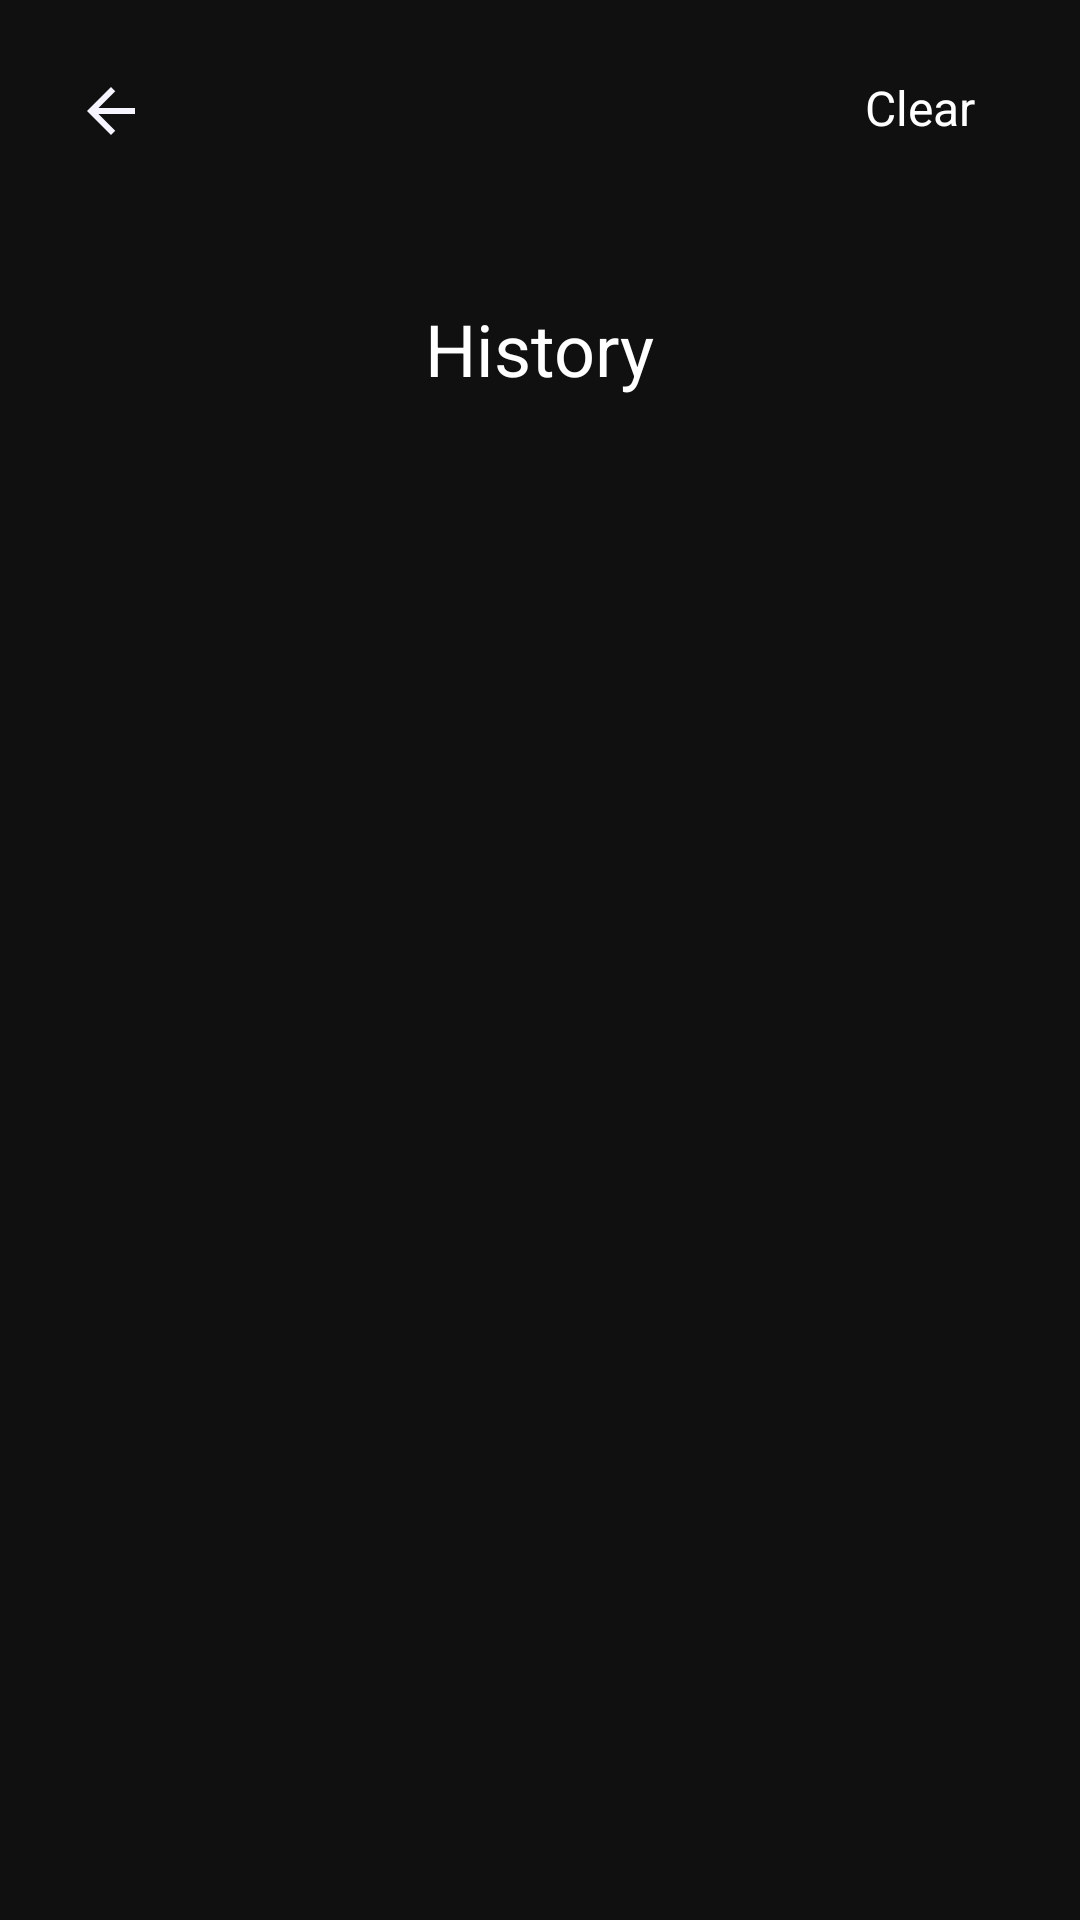

Named icons in this screenshot (1080×1920) and their centers, point (x, y):
back: point (111, 111)
